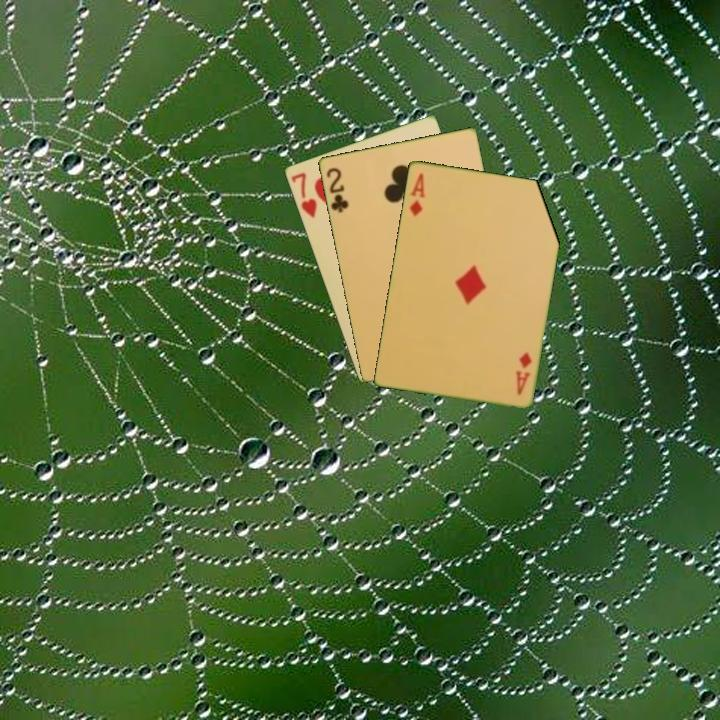2c: (322, 164, 351, 215)
7h: (288, 169, 320, 221)
Ad: (512, 348, 535, 397), (406, 169, 428, 219)
